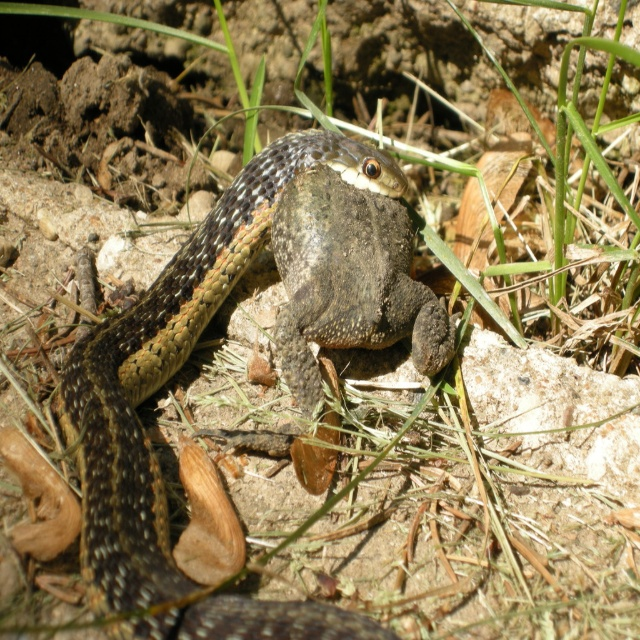Snake: (53, 129, 406, 639)
